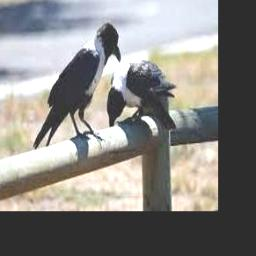Crow: (33, 23, 121, 153), (107, 59, 176, 128)
